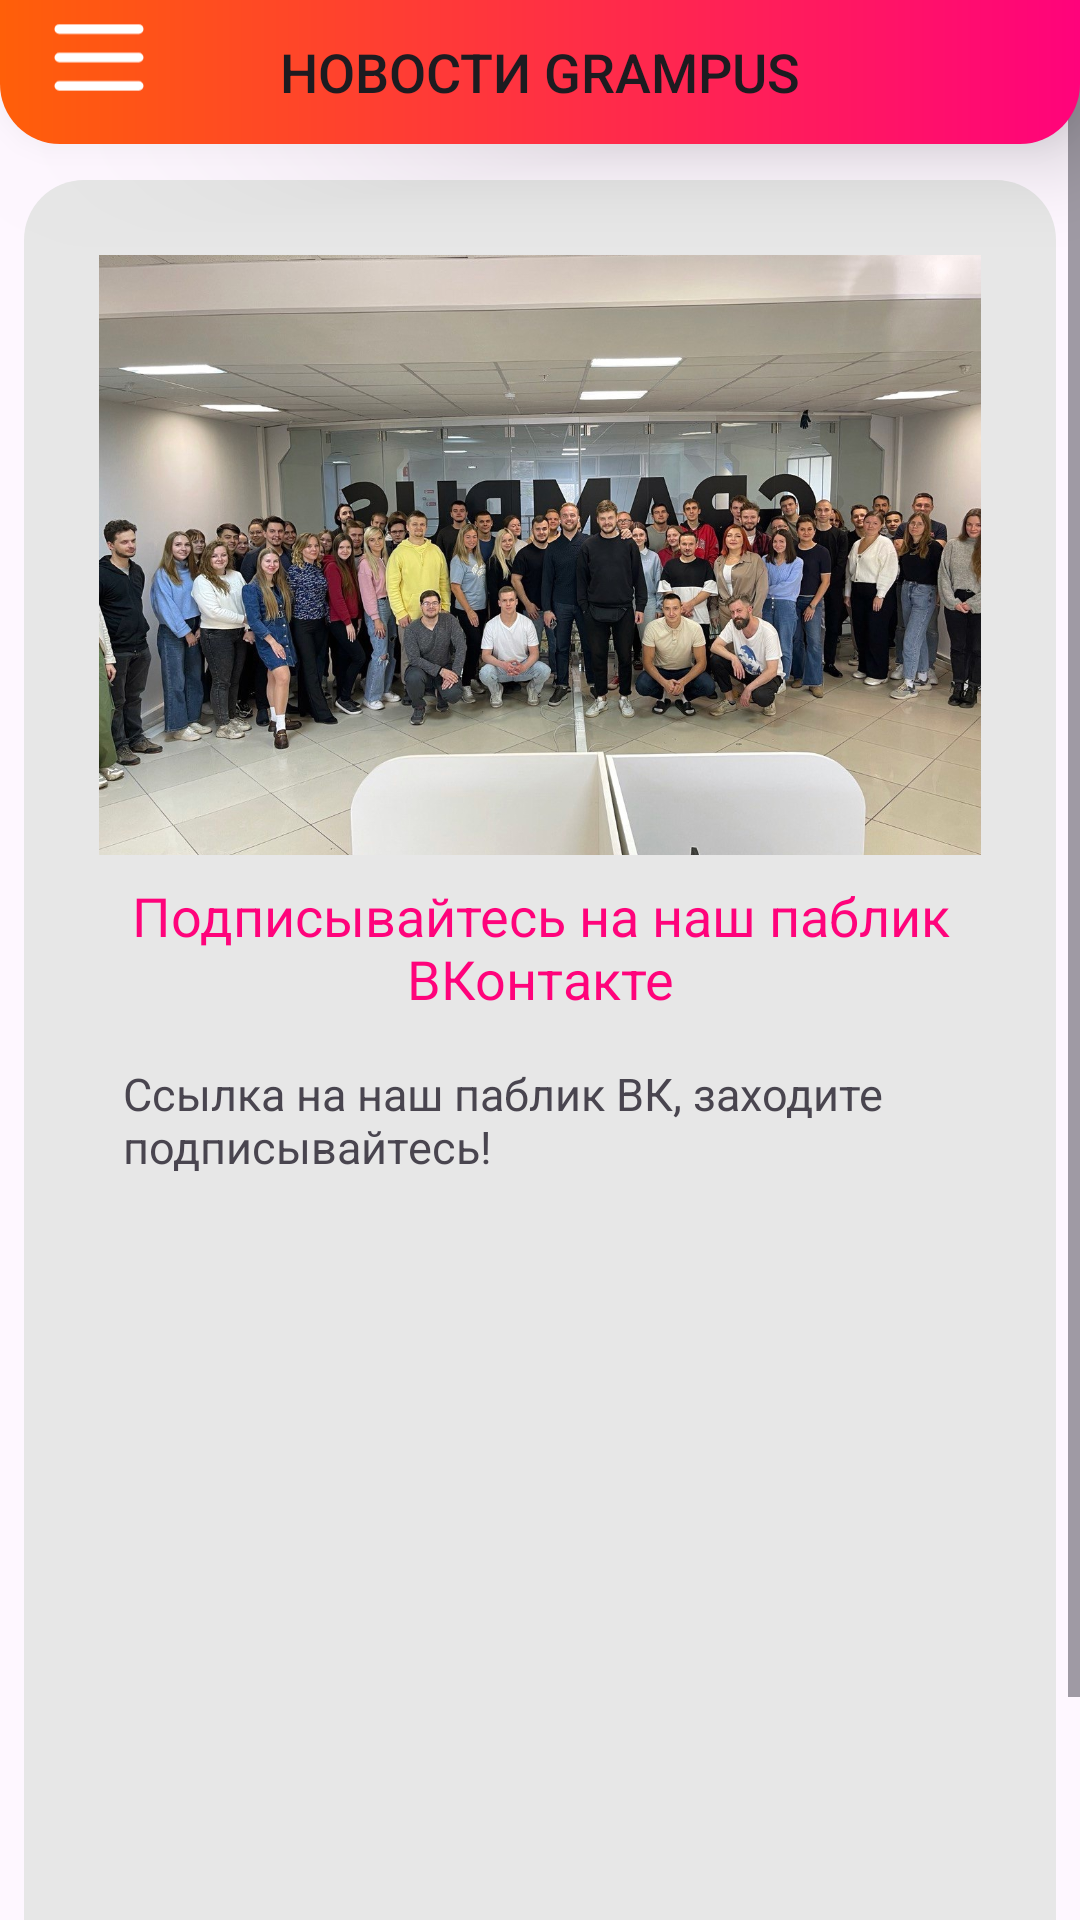

Screen size 1080px x 1920px. Icon name, then its box in pixels as (x1, y1, x2, y2):
burger menu: (54, 24, 144, 91)
